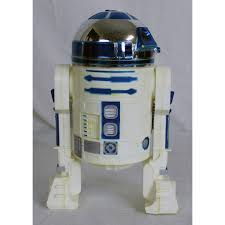r2d2: (47, 9, 179, 215)
